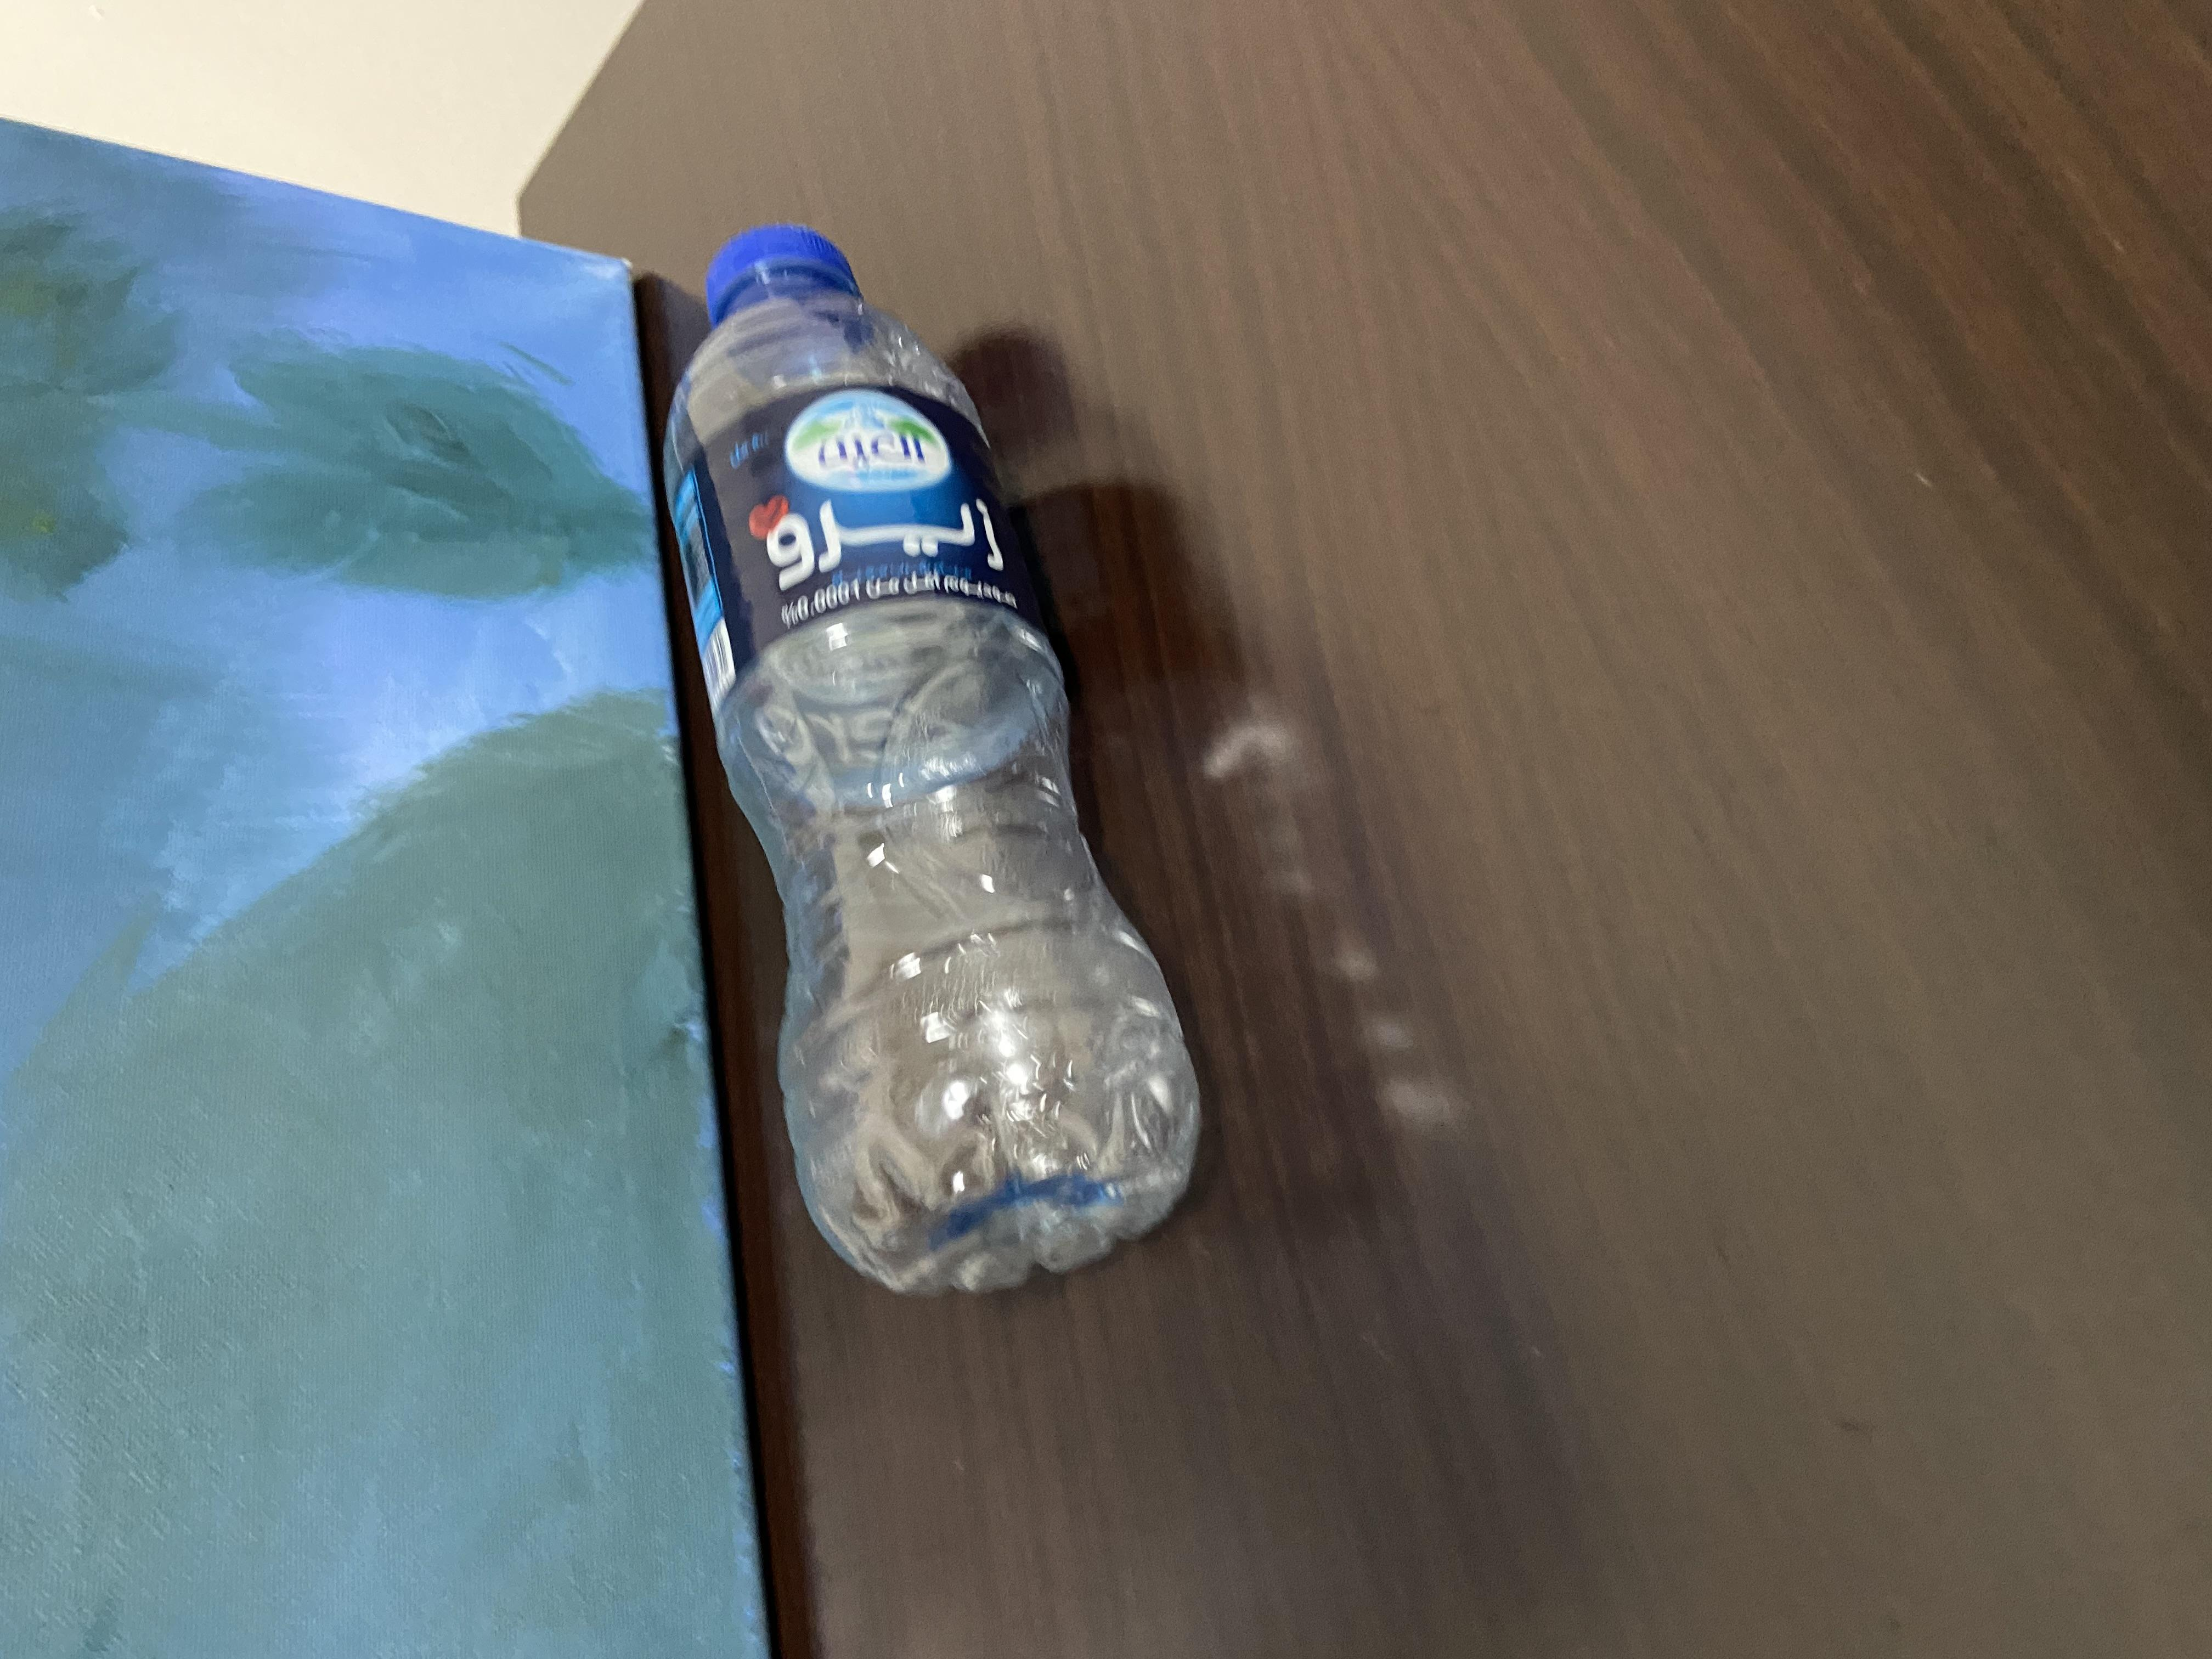bottle: (465, 477, 1949, 915)
